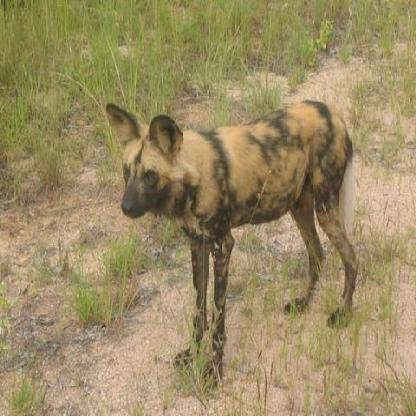African_hunting_dog: (104, 99, 358, 387)
